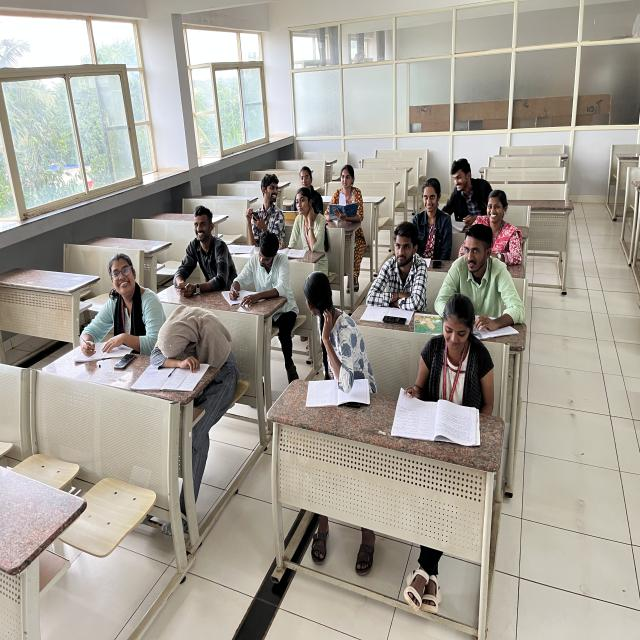Reading: (411, 292, 486, 432), (322, 164, 366, 222), (279, 164, 321, 222)
Sleeping: (149, 306, 230, 369)
Using Phone: (171, 205, 231, 299), (240, 172, 288, 236)
Writing: (74, 256, 156, 356), (222, 233, 289, 301)
